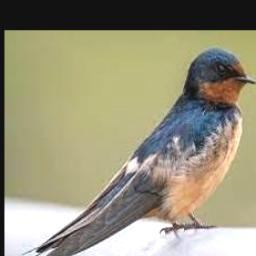Swallow: (22, 46, 255, 256)
